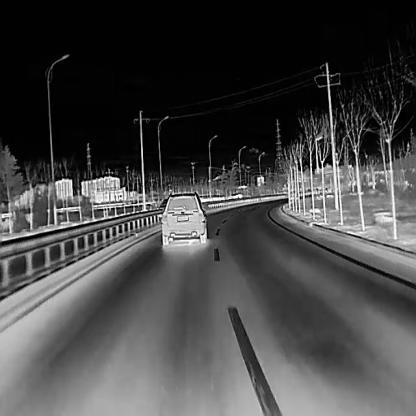car: (160, 189, 207, 246)
